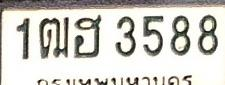1: (16, 17, 30, 60)
3: (114, 15, 136, 57)
5: (142, 14, 164, 57)
8: (197, 14, 218, 55), (170, 14, 190, 56)
A18: (38, 16, 69, 59)
A44: (72, 14, 102, 58)
